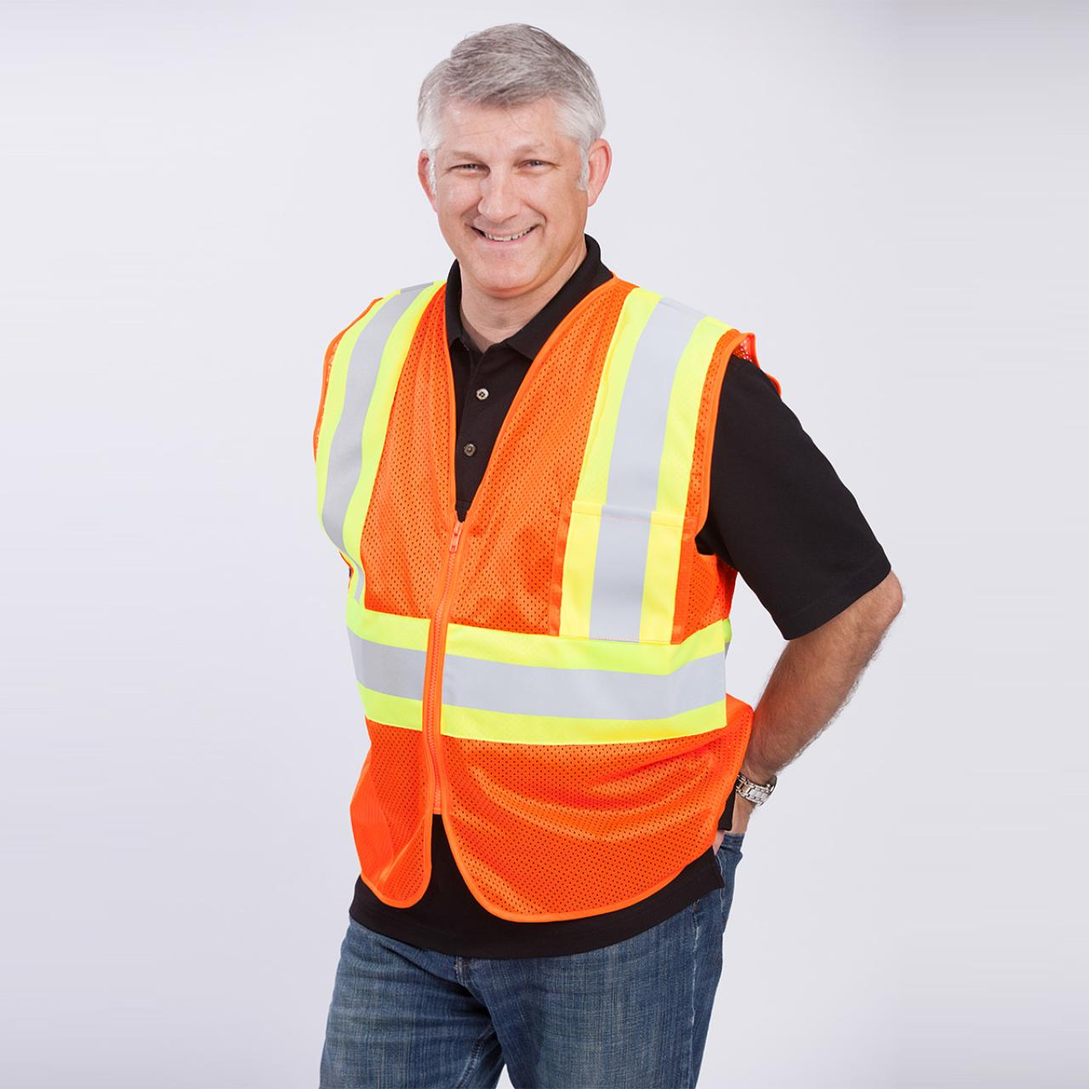Person: (222, 0, 933, 1088)
Safety_Vest: (290, 268, 789, 919)
